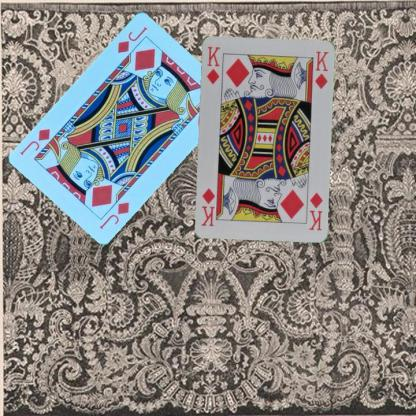Jd: (96, 199, 130, 230), (114, 24, 149, 54)
Kd: (306, 190, 324, 232), (204, 44, 221, 85)
